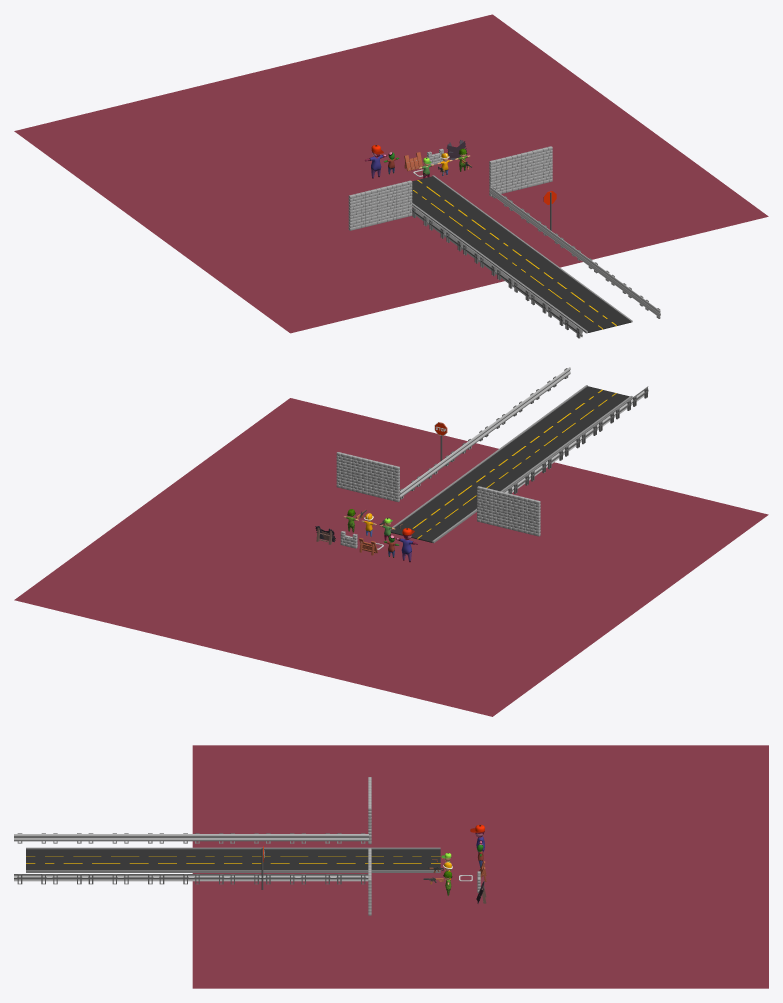
Rendered from sweetzombiesModel.fbx.
3 views of the same model, one above another, from view 1: azimuth 30°, elevation 25°; view 2: azimuth 150°, elevation 25°; view 3: azimuth 270°, elevation 25° (orthographic). The views are drawn at different scales.
Parts seen in each view (by area): view 1: Плоскость, Куб.026, Куб.008, Куб.014, Куб.009, Куб.027, Куб.030; view 2: Плоскость, Куб.026, Куб.008, Куб.014, Куб.009, Куб.030, Куб.027; view 3: Плоскость, Куб.026, Куб.008, Куб.027, Куб.030.
Boxes of the visible parts, left/top/right/bottom form: Плоскость: left=14, top=14, right=768, bottom=333; Куб.026: left=487, top=248, right=632, bottom=333; Куб.008: left=412, top=175, right=532, bottom=259; Куб.014: left=348, top=180, right=412, bottom=230; Куб.009: left=489, top=146, right=552, bottom=196; Куб.027: left=412, top=206, right=582, bottom=338; Куб.030: left=489, top=186, right=660, bottom=318; Плоскость: left=14, top=398, right=768, bottom=716; Куб.026: left=487, top=385, right=632, bottom=469; Куб.008: left=390, top=457, right=532, bottom=543; Куб.014: left=477, top=486, right=540, bottom=536; Куб.009: left=336, top=452, right=399, bottom=502; Куб.030: left=399, top=367, right=570, bottom=499; Куб.027: left=503, top=386, right=648, bottom=493; Плоскость: left=192, top=745, right=768, bottom=988; Куб.026: left=26, top=847, right=233, bottom=872; Куб.008: left=233, top=847, right=440, bottom=872; Куб.027: left=14, top=833, right=368, bottom=843; Куб.030: left=14, top=874, right=368, bottom=884.
Size of the model in its own units: 25370 by 2322 by 33230.
